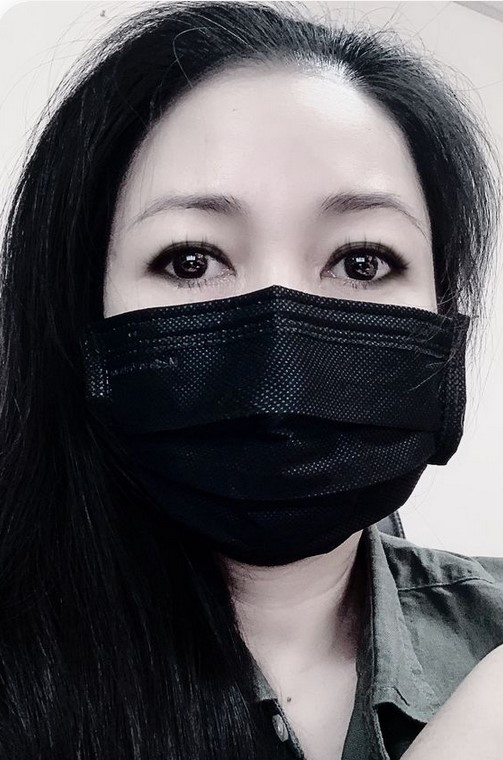face_with_mask: (17, 9, 481, 568)
